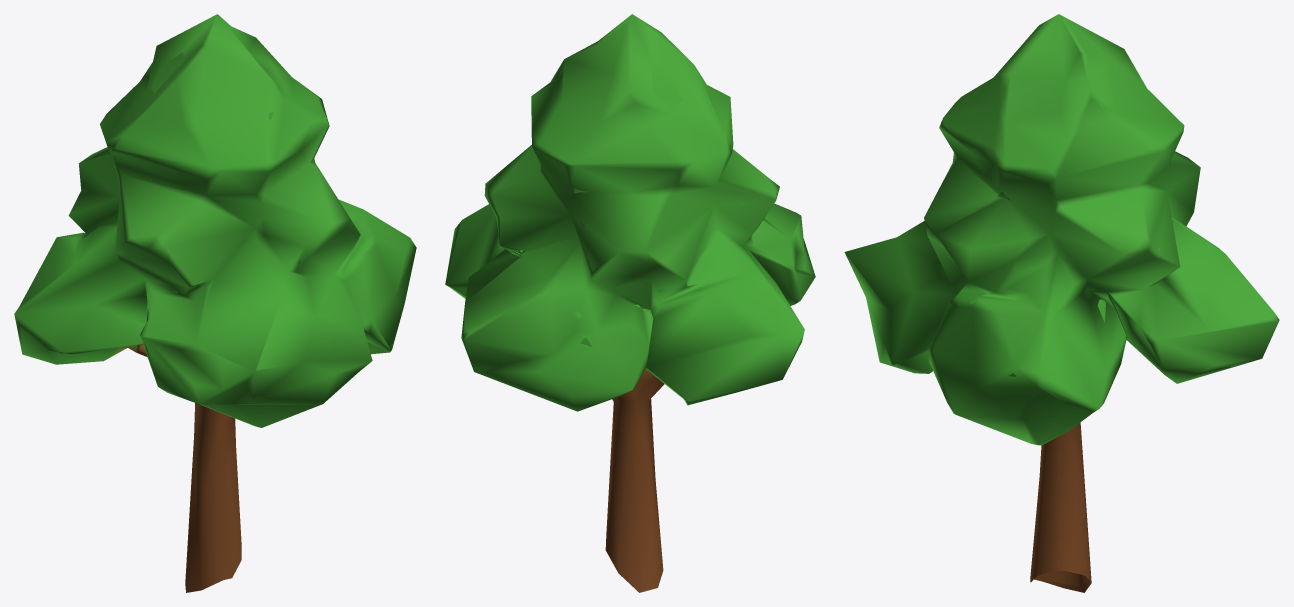
The model's file is gen3d-poplar-tree-lod1.glb.
The picture shows the model from 3 angles, left to right: view 1: azimuth 30°, elevation 25°; view 2: azimuth 150°, elevation 25°; view 3: azimuth 270°, elevation 25°; orthographic projection. The views are drawn at different scales.
Parts seen in each view (by area): view 1: part_0; view 2: part_0; view 3: part_0.
Boxes of the visible parts, <box> form: part_0: <box>14,14,416,592</box>; part_0: <box>445,14,815,592</box>; part_0: <box>844,14,1279,592</box>.
Bounding box in the file's own units: 0.6893 × 0.9999 × 0.6698.
